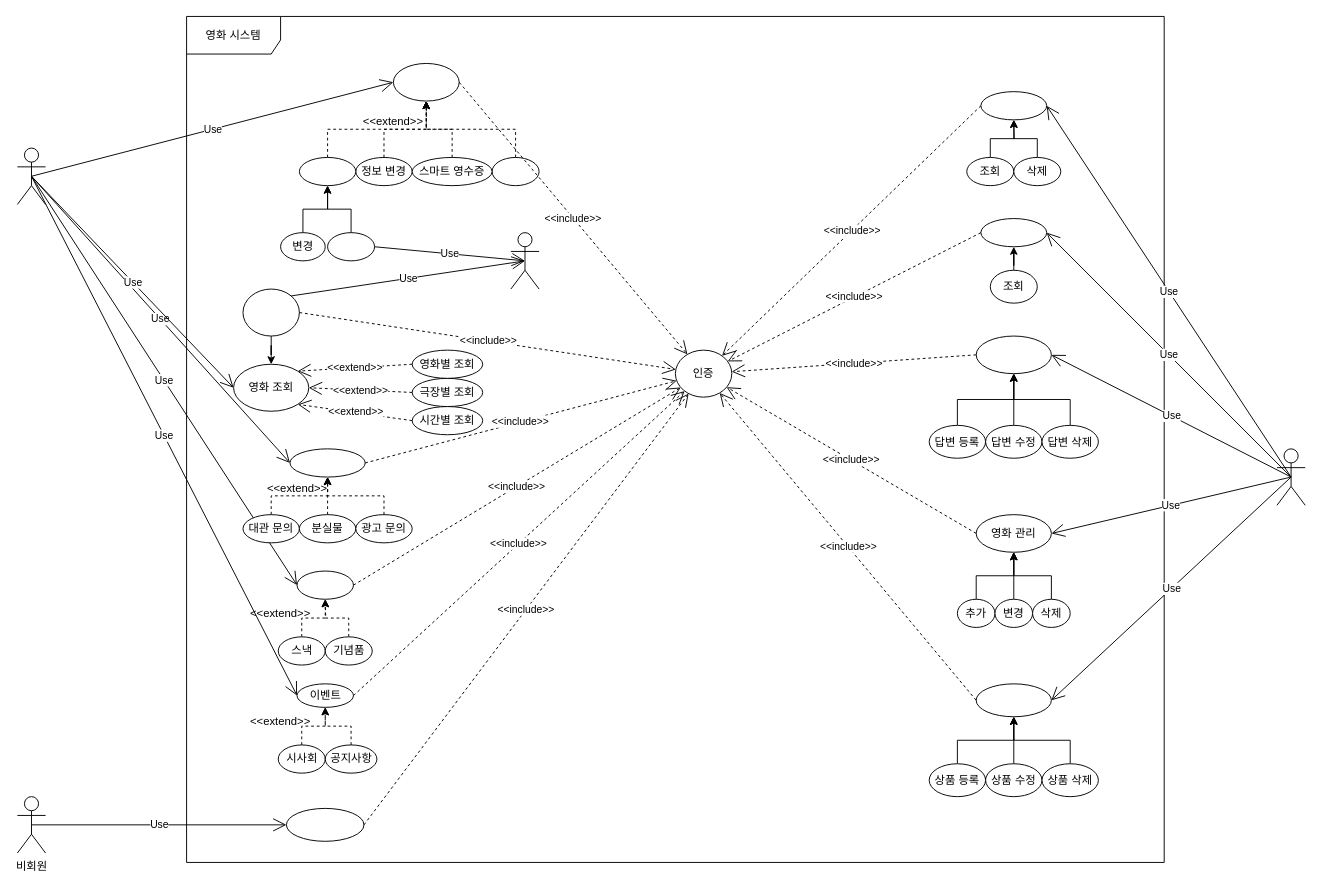
The diagram is 1323 pixels wide and 889 high, and some of its shapes have lost their labels. Each missing label, with the centre of its shape:
"고객 센터" belongs at point (327, 462).
"고객센터 관리" belongs at point (1013, 354).
"관리자" belongs at point (1290, 476).
"마이페이지" belongs at point (425, 82).
"스토어" belongs at point (324, 584).
"스토어 관리" belongs at point (1013, 700).
"예매" belongs at point (270, 312).
"예매 관리" belongs at point (1013, 232).
"예약 조회" belongs at point (327, 171).
"취소" belongs at point (351, 246).
"카드인증 회사" belongs at point (524, 260).
"탈퇴" belongs at point (515, 171).
"회원" belongs at point (31, 175).
"회원 가입" belongs at point (324, 824).
"회원 관리" belongs at point (1013, 105).
